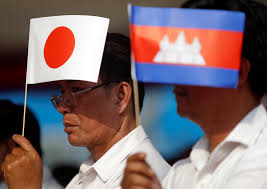Japanese Flag: (23, 14, 111, 84)
